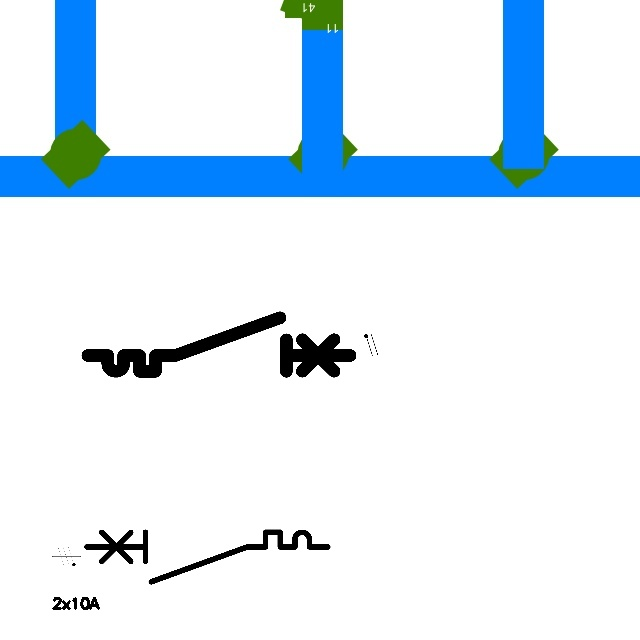interruptor_termomagnetico: (81, 311, 357, 378), (80, 526, 334, 588)
